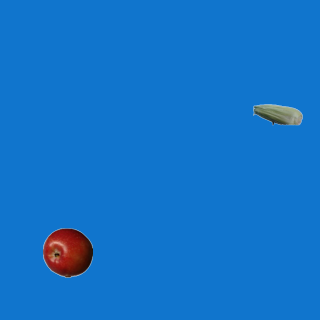Apple Braeburn: (42, 227, 92, 277)
Corn Husk: (252, 89, 302, 139)
